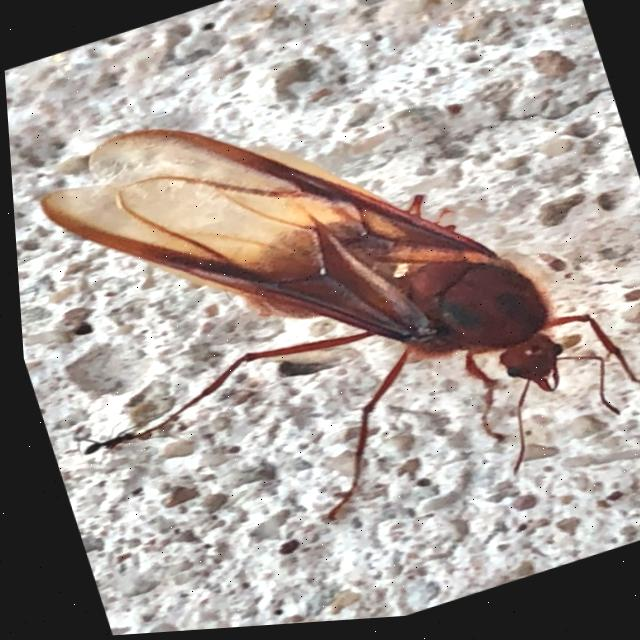Alive-Male-Alate: (18, 0, 640, 594)
